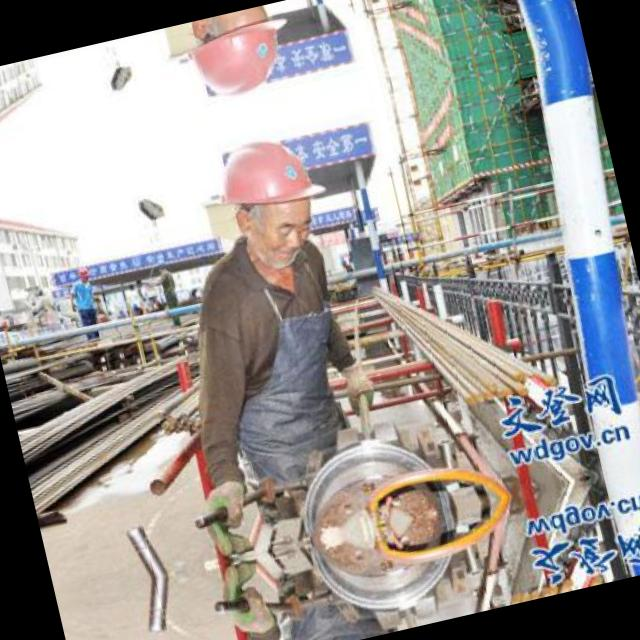helmet: (195, 118, 342, 277), (167, 0, 306, 117), (74, 263, 90, 285)
